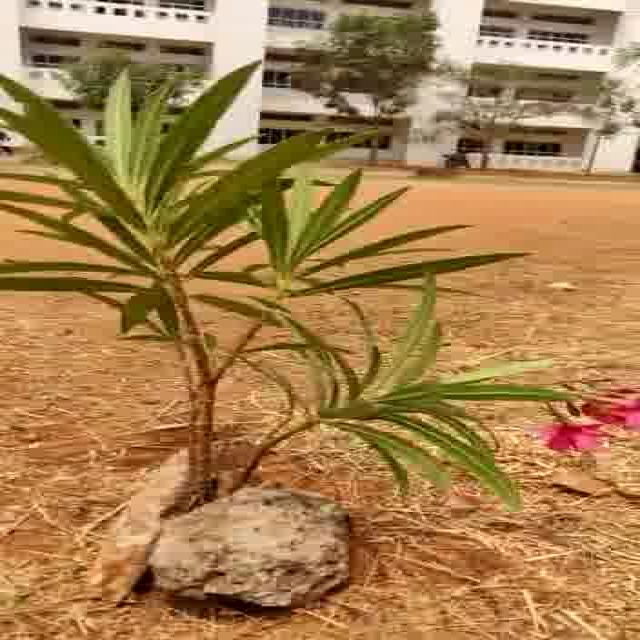OLEANDER: (22, 53, 640, 497)
